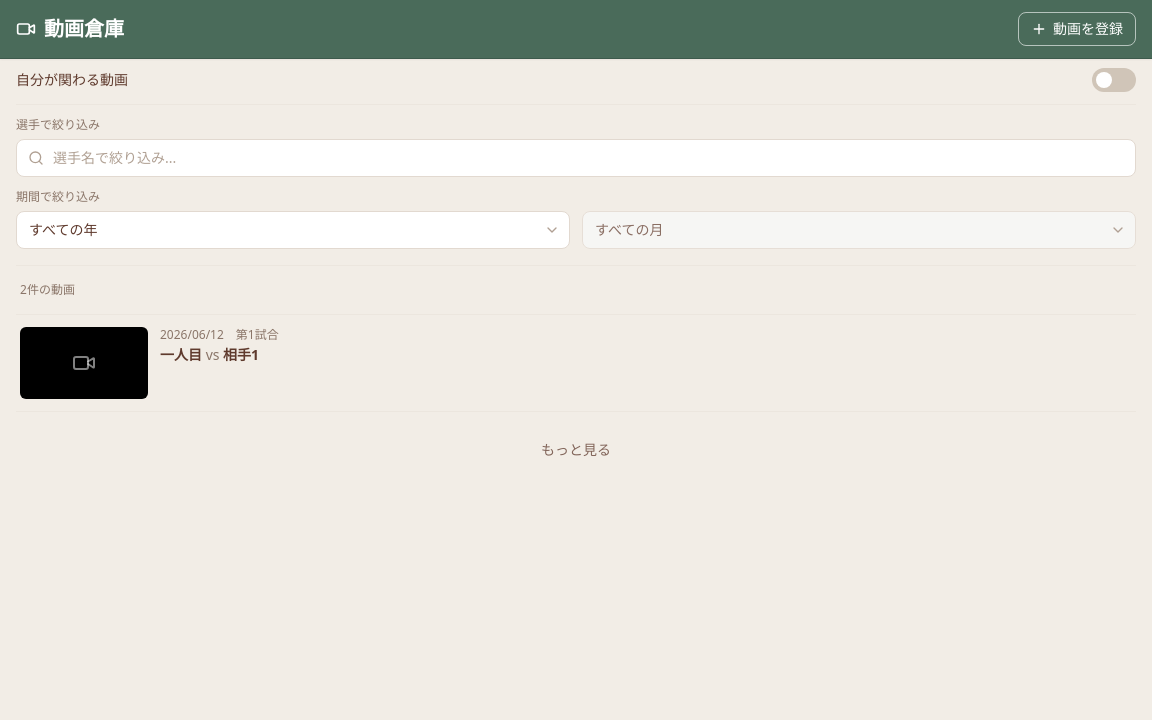
it: VideoLibrary - 検索条件変更時の取得競合 › 同一条件での「もっと見る」は前ページに追記される（正常系の維持）
Expected: the text "一人目 vs 相手1" is shown, [160,345,259,364]
Step 1. Click the button "もっと見る" → (576, 450), box [16,428,1136,472]
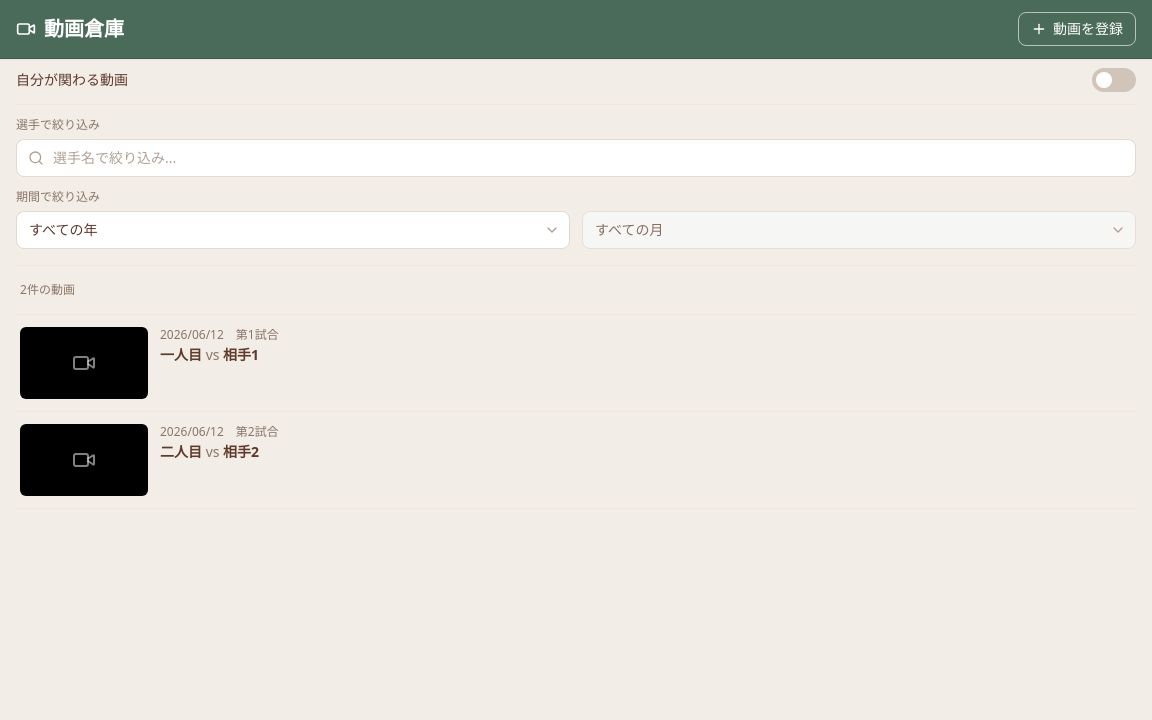
Expected: the text "一人目 vs 相手1" is shown, [160,345,259,364]
Now the text "二人目 vs 相手2" is shown, box [160,442,259,461]
